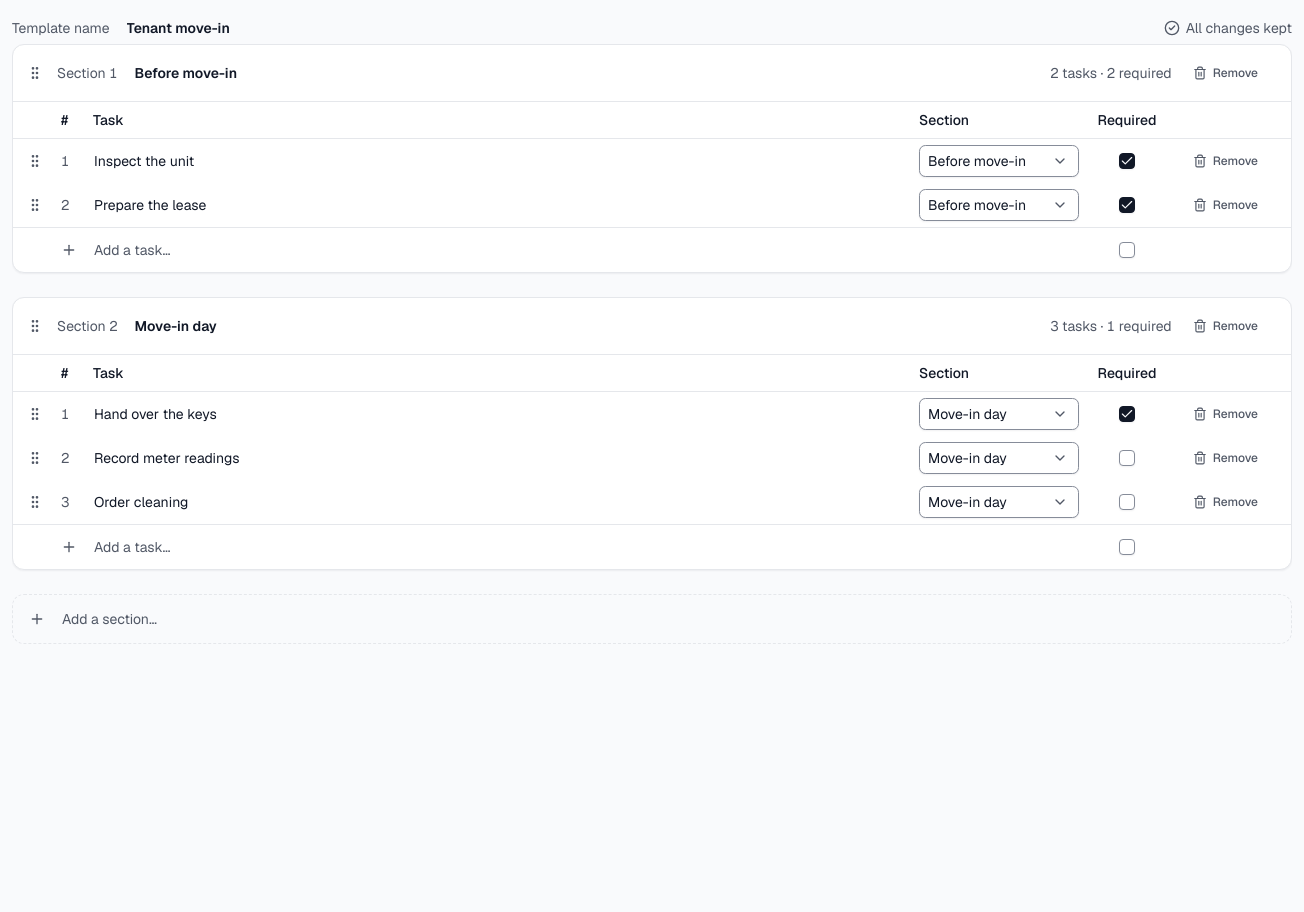
Scenario: template editor in the browser › AC-EDITOR-25: зміну не збережено — «Your last change was not kept. Try again.» на місці стану, задача лишається в полі
Expected: the message with test id "keep-status" reads "All changes kept", [1186, 19, 1292, 37]
Type "Sign handover act" into the field named "New task in Move-in day" at (498, 547), box [85, 531, 911, 563]
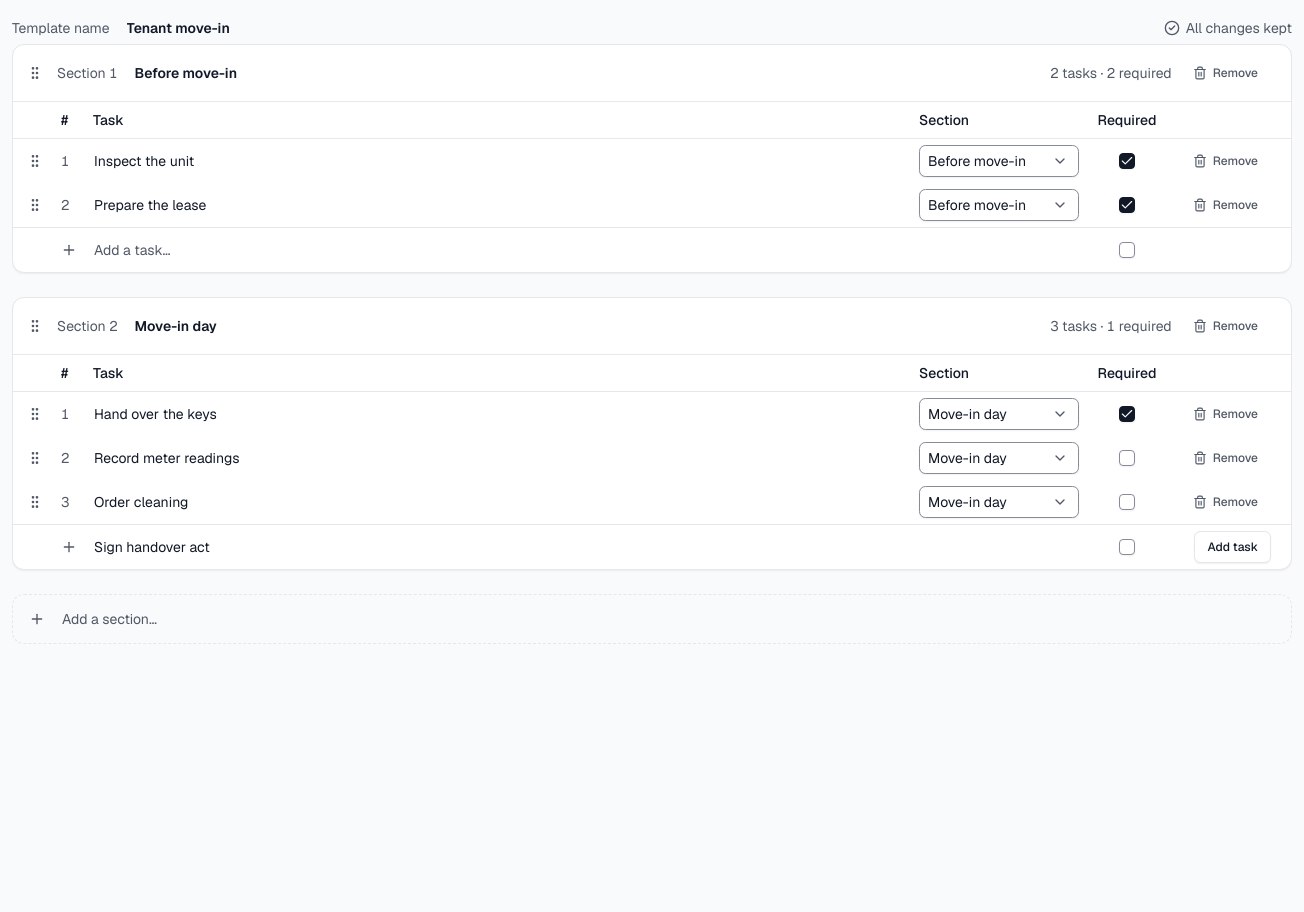
Submit the form named "New task in Move-in day", box [13, 524, 1291, 569]
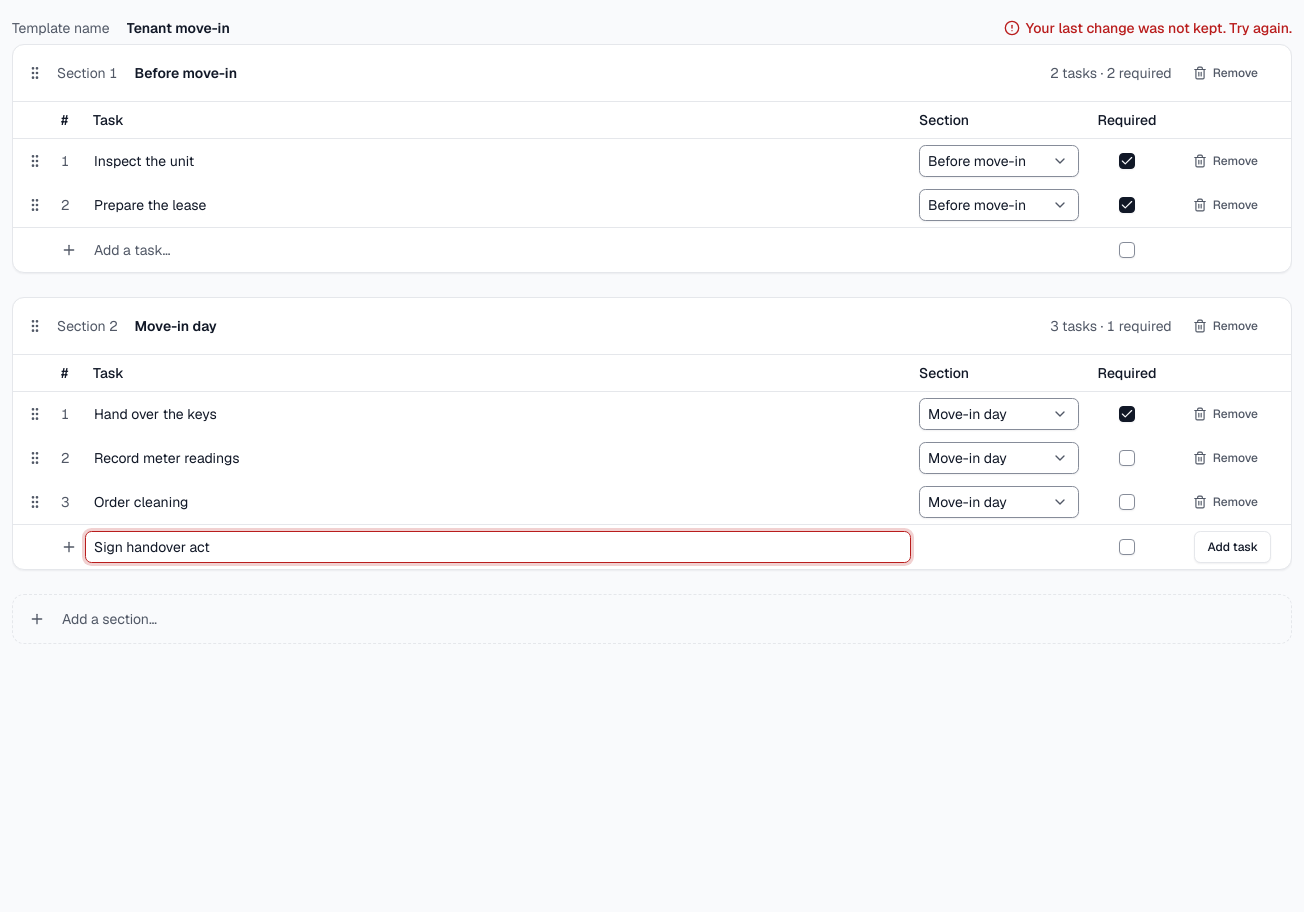
Now the message with test id "keep-status" reads "Your last change was not kept. Try again.", box [1026, 19, 1292, 37]
